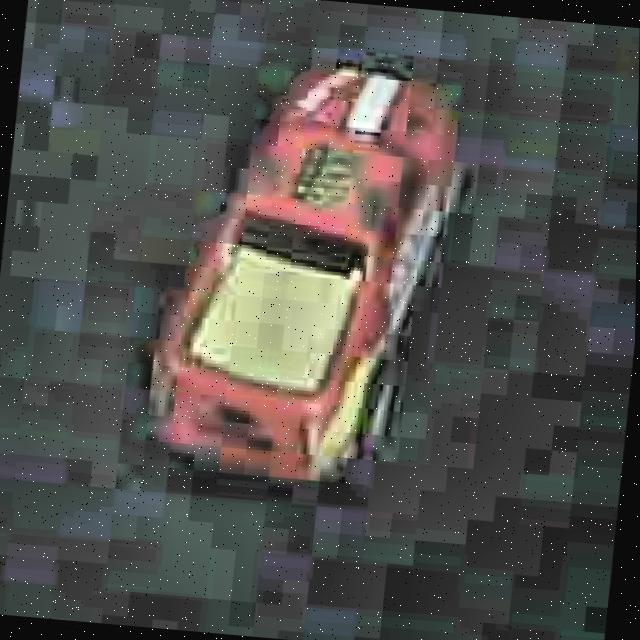car: (127, 37, 474, 506)
